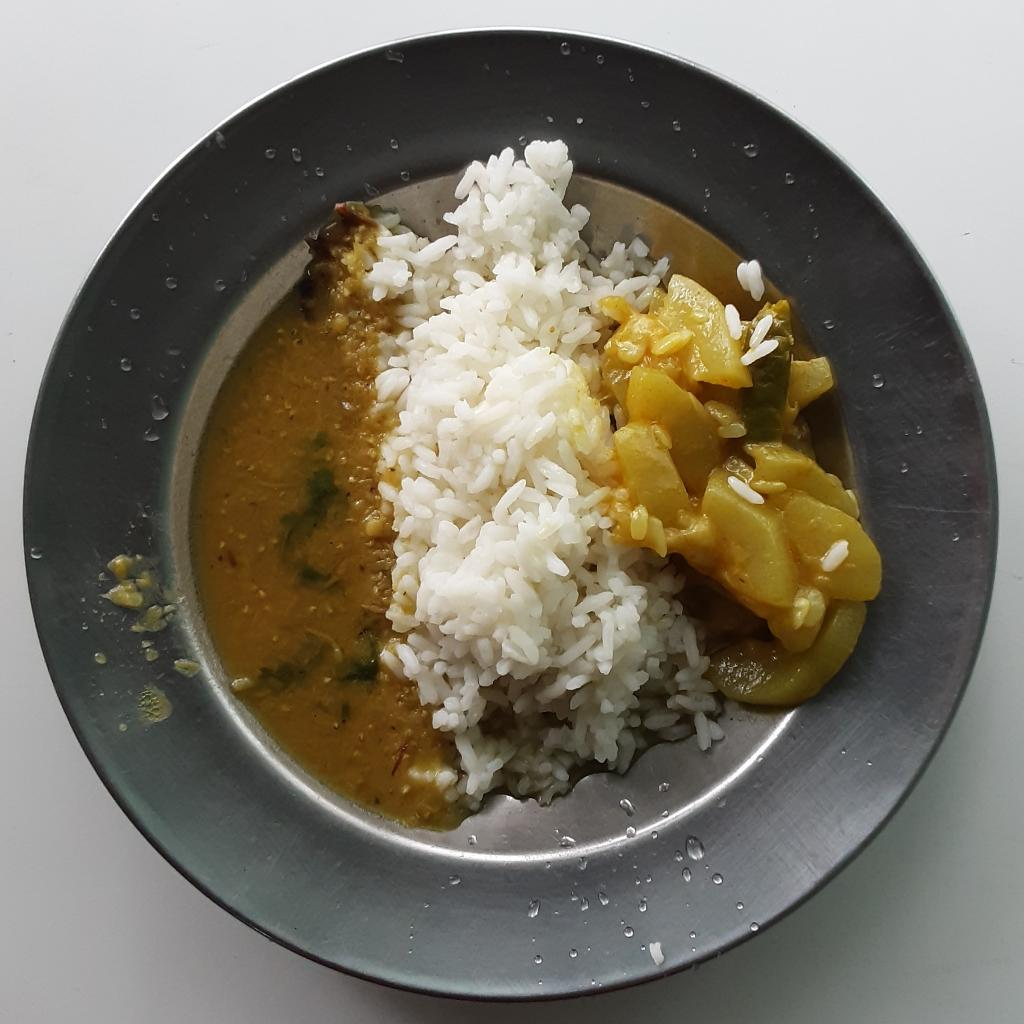daal: (186, 197, 468, 830)
lau: (601, 267, 883, 704)
rice: (360, 141, 733, 815)
